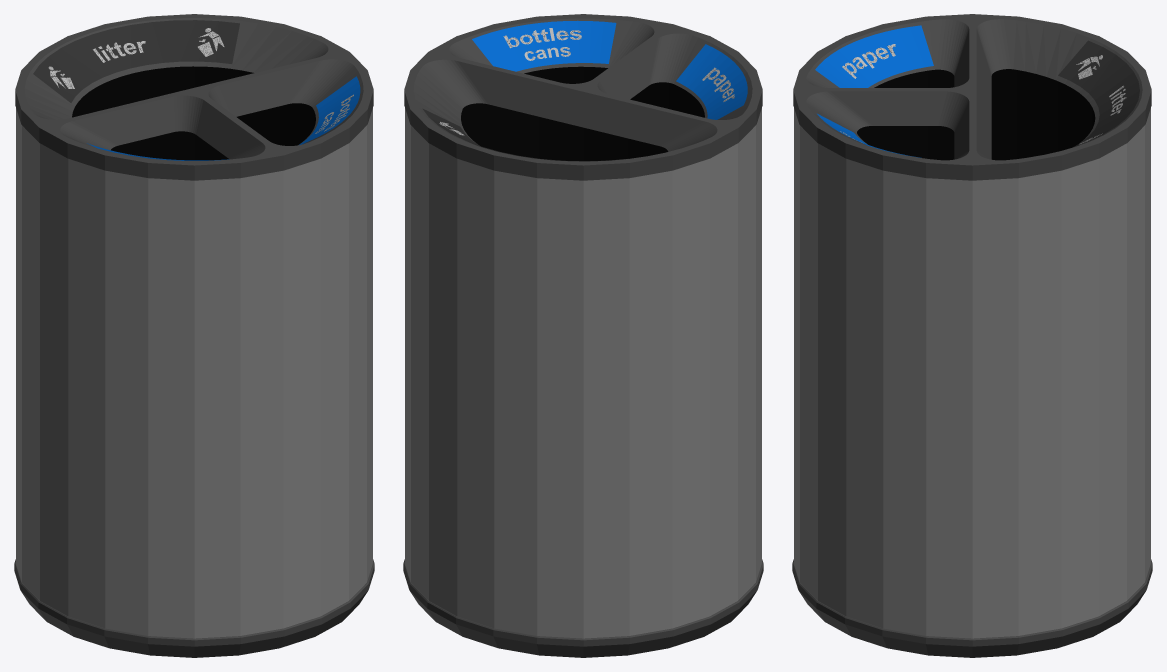
3 views of the same model, side by side, from view 1: azimuth 30°, elevation 25°; view 2: azimuth 150°, elevation 25°; view 3: azimuth 270°, elevation 25° (orthographic).
Parts seen in each view (by area): view 1: mesh3.001_mesh3-geometry, mesh1.001_mesh1-geometry, mesh2.001_mesh2-geometry, mesh4.001_mesh4-geometry, mesh23.001_mesh23-geometry, mesh5.001_mesh5-geometry, mesh35.001_mesh35-geometry; view 2: mesh3.001_mesh3-geometry, mesh1.001_mesh1-geometry, mesh2.001_mesh2-geometry, mesh4.001_mesh4-geometry, mesh5.001_mesh5-geometry, mesh35.001_mesh35-geometry, mesh35.002_mesh35-geometry, mesh23.001_mesh23-geometry; view 3: mesh3.001_mesh3-geometry, mesh2.001_mesh2-geometry, mesh1.001_mesh1-geometry, mesh4.001_mesh4-geometry, mesh5.001_mesh5-geometry, mesh35.002_mesh35-geometry, mesh23.001_mesh23-geometry.
Boxes of the visible parts, box(x1,y1,x2,y2) form: mesh3.001_mesh3-geometry: box(16, 108, 372, 638); mesh1.001_mesh1-geometry: box(15, 24, 283, 180); mesh2.001_mesh2-geometry: box(105, 14, 373, 170); mesh4.001_mesh4-geometry: box(72, 66, 315, 160); mesh23.001_mesh23-geometry: box(33, 20, 239, 102); mesh5.001_mesh5-geometry: box(14, 559, 374, 657); mesh35.001_mesh35-geometry: box(299, 76, 360, 144); mesh3.001_mesh3-geometry: box(405, 108, 761, 638); mesh1.001_mesh1-geometry: box(494, 24, 762, 180); mesh2.001_mesh2-geometry: box(404, 14, 672, 170); mesh4.001_mesh4-geometry: box(461, 66, 704, 161); mesh5.001_mesh5-geometry: box(403, 559, 763, 657); mesh35.001_mesh35-geometry: box(472, 20, 616, 71); mesh35.002_mesh35-geometry: box(676, 44, 747, 119); mesh23.001_mesh23-geometry: box(422, 108, 628, 161); mesh3.001_mesh3-geometry: box(794, 108, 1150, 638); mesh2.001_mesh2-geometry: box(793, 89, 1151, 180); mesh1.001_mesh1-geometry: box(793, 14, 1151, 117); mesh4.001_mesh4-geometry: box(857, 69, 1095, 160); mesh5.001_mesh5-geometry: box(792, 559, 1152, 657); mesh35.002_mesh35-geometry: box(815, 25, 933, 87); mesh23.001_mesh23-geometry: box(1058, 40, 1139, 147).
Bounding box in the file's own units: 0.482 × 0.7317 × 0.482.
